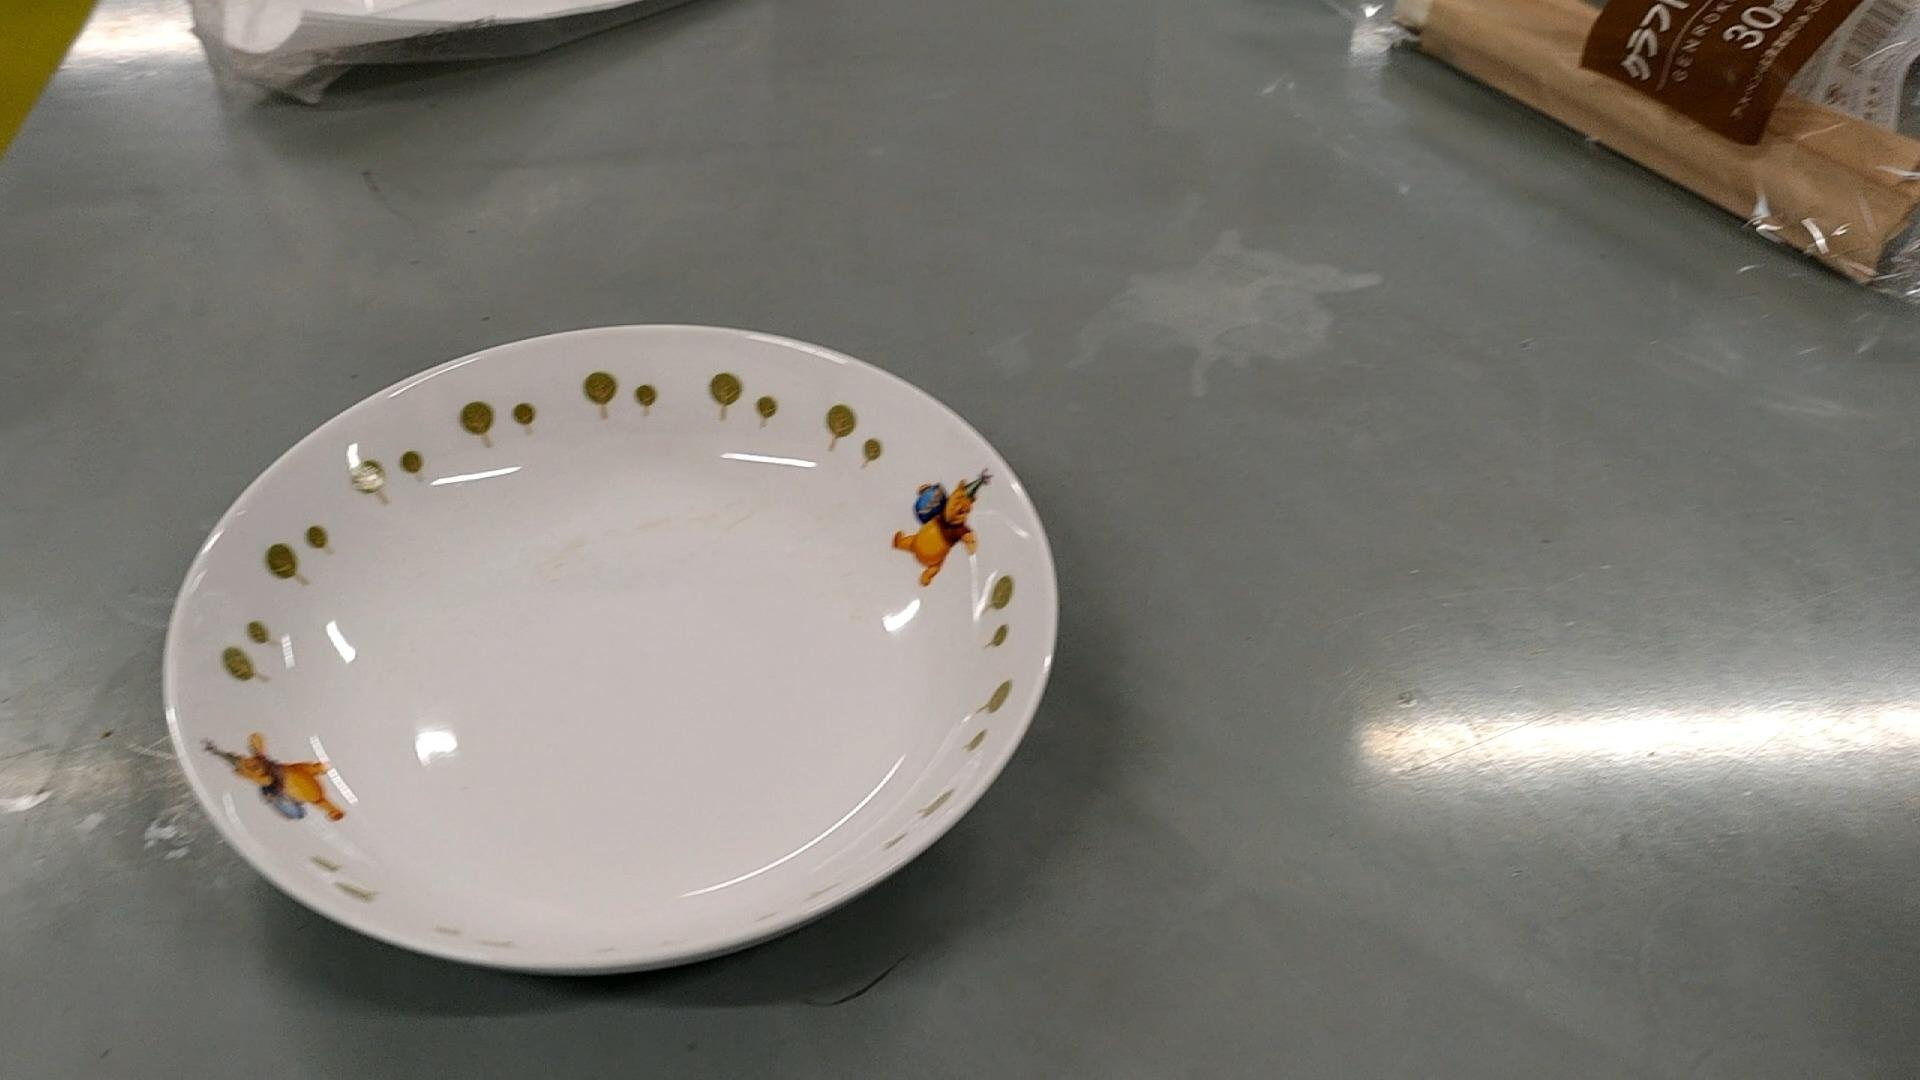plate: (167, 318, 1055, 973)
